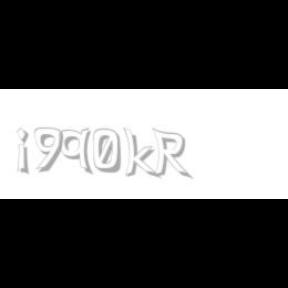0: (94, 128, 124, 174)
9: (34, 128, 64, 172)
R: (152, 128, 190, 180)
i: (16, 128, 32, 176)
k: (123, 128, 161, 180)
q: (58, 128, 94, 176)
